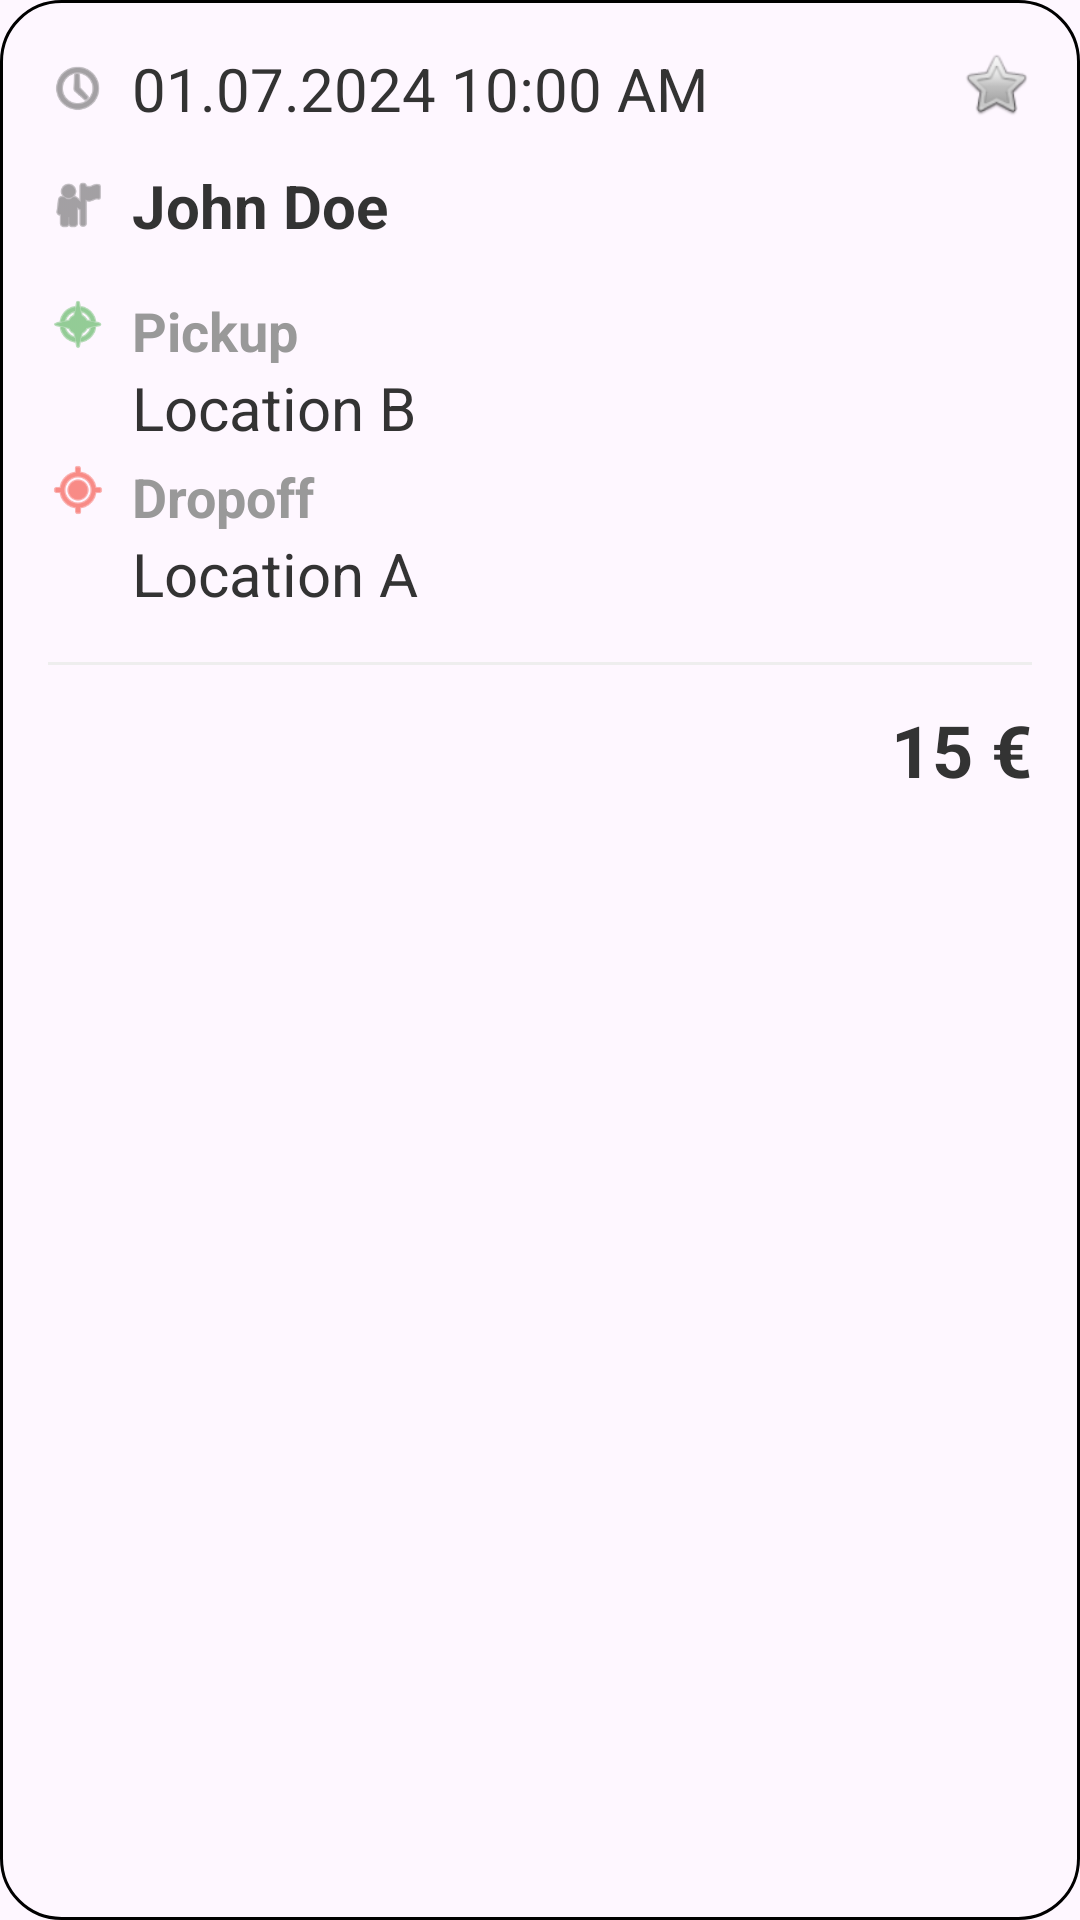

Screen size 1080 x 1920. Icon name, then its center in pixels as point (x, y):
myplaces: point (78, 205)
recent history: point (77, 88)
star off: point (997, 84)
